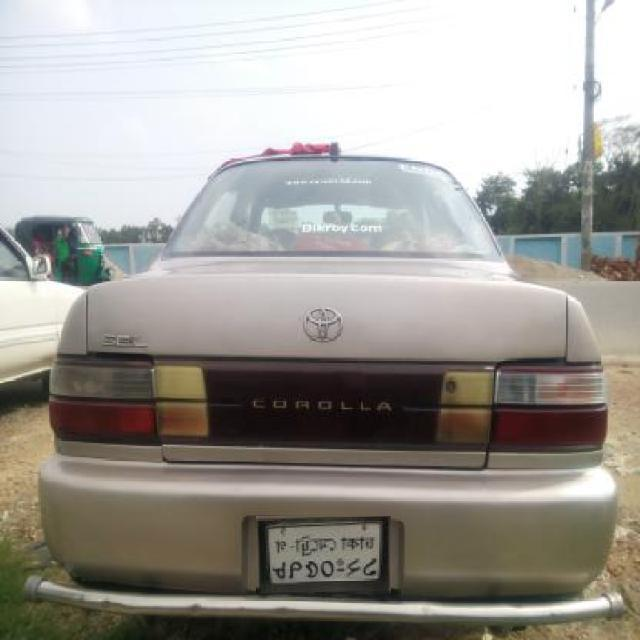cng: (13, 214, 110, 286)
numberplate: (256, 516, 391, 594)
